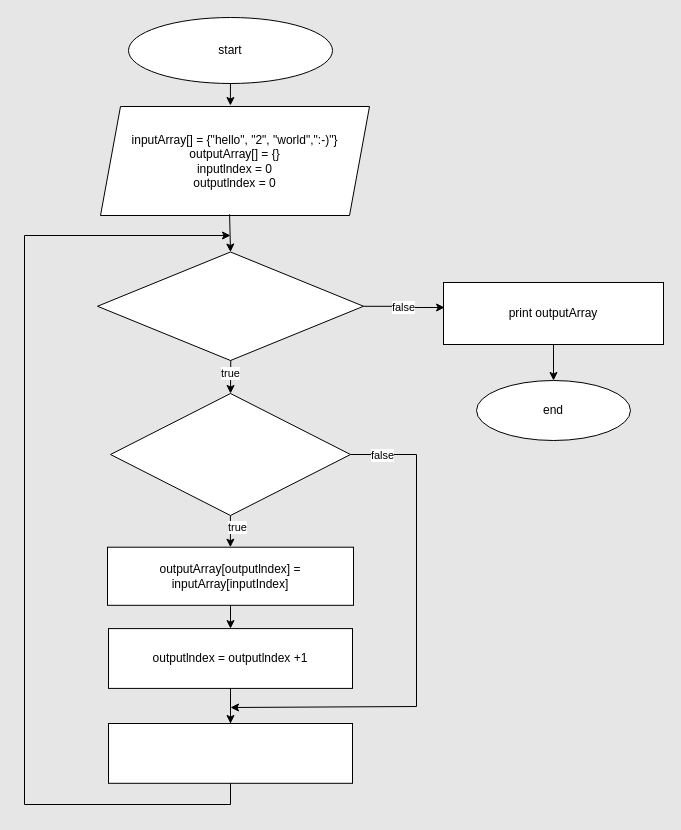
Some shapes in this 681 by 830 pixel diagram are drawn without their labels. Each missing label, with the centre of its shape:
inputArray[inputlndex] Lenght <= 3: point (230, 454)
inputlndex < inputArray.Lenght: point (230, 305)
inputlndex = inputlndex +1: point (230, 752)
